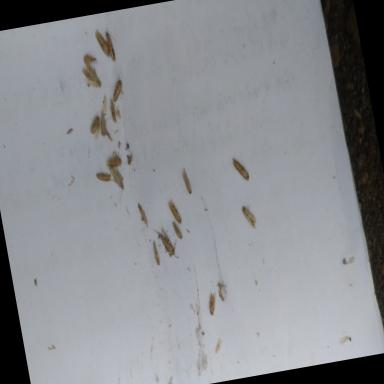pbw: (154, 225, 178, 260), (109, 162, 128, 204), (81, 60, 102, 90), (108, 72, 126, 102), (94, 28, 110, 58), (242, 204, 258, 232), (233, 156, 250, 182), (168, 198, 182, 226), (88, 116, 103, 142), (137, 201, 149, 230), (206, 292, 220, 316), (181, 166, 192, 196), (106, 30, 116, 62), (98, 109, 109, 136), (104, 154, 122, 170), (108, 98, 118, 122), (172, 219, 183, 240), (96, 170, 112, 183), (83, 53, 98, 65)
